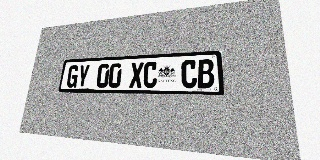0: (108, 63, 122, 88), (96, 64, 110, 88)
B: (197, 59, 214, 88)
C: (181, 60, 197, 88), (143, 61, 158, 88)
G: (66, 65, 79, 88)
X: (129, 62, 144, 88)
Y: (76, 64, 90, 88)
